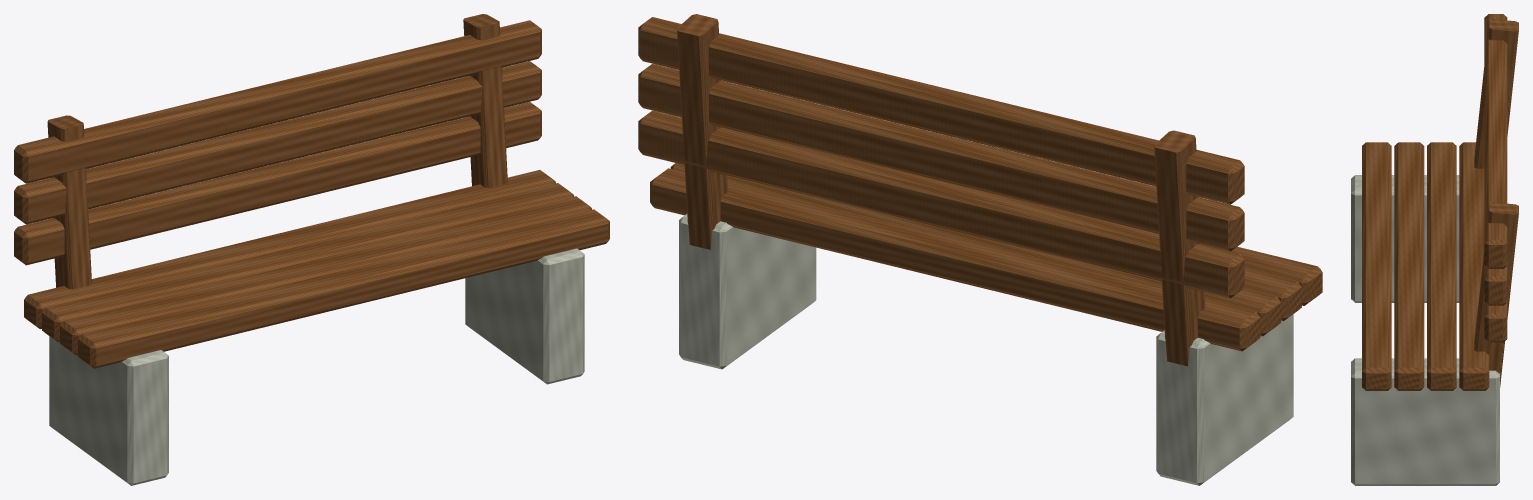
File: public_bench.glb
The picture shows the model from 3 angles, left to right: view 1: azimuth 30°, elevation 25°; view 2: azimuth 150°, elevation 25°; view 3: azimuth 270°, elevation 25°; orthographic projection. The views are drawn at different scales.
Parts seen in each view (by area): view 1: public_bench_Joinery, public_bench_Structure; view 2: public_bench_Joinery, public_bench_Structure; view 3: public_bench_Joinery, public_bench_Structure.
Part boxes in pixels (<box>): public_bench_Joinery: <box>14,14,609,368</box>; public_bench_Structure: <box>49,248,584,485</box>; public_bench_Joinery: <box>638,14,1322,366</box>; public_bench_Structure: <box>679,214,1293,485</box>; public_bench_Joinery: <box>1362,14,1518,390</box>; public_bench_Structure: <box>1351,175,1499,485</box>.
Size of the model in its own units: 2 by 1.11 by 0.6197.
1 material, 1 textured.
